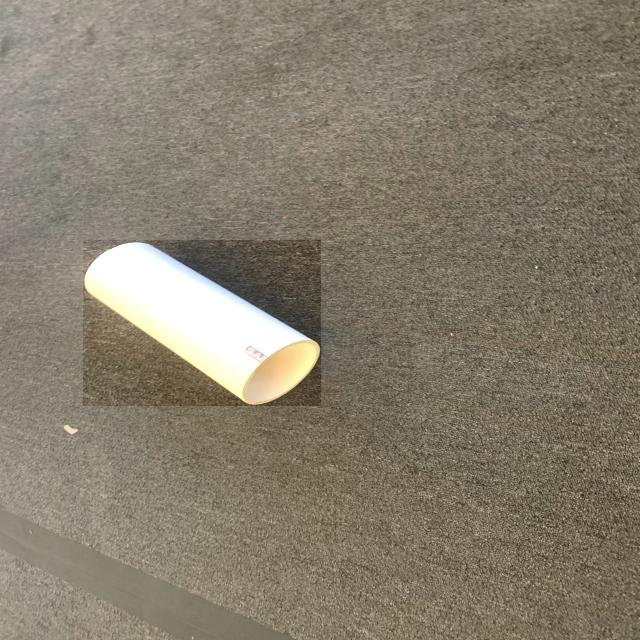Coral: (83, 240, 321, 406)
